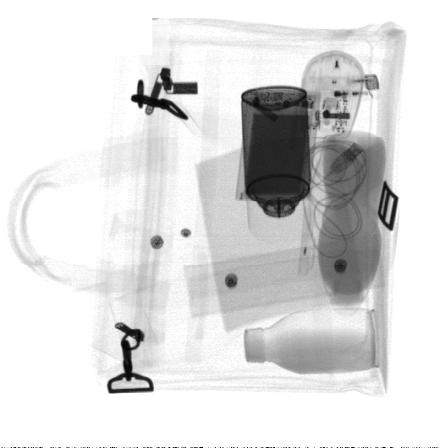Lighter: (312, 74, 381, 101)
Powerbank: (235, 90, 321, 201)
Sprayer: (241, 85, 312, 243)
